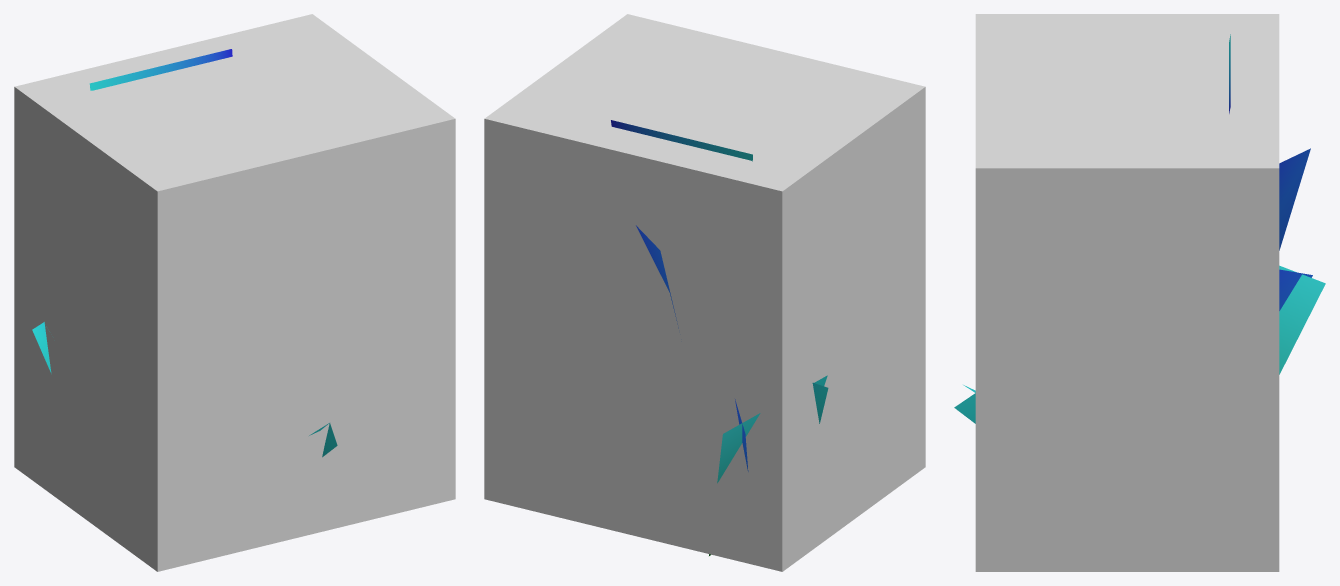
Rendered from lush_grass_01_c.dae.
3 views of the same model, side by side, from view 1: azimuth 30°, elevation 25°; view 2: azimuth 150°, elevation 25°; view 3: azimuth 270°, elevation 25° (orthographic). The views are drawn at different scales.
Parts seen in each view (by area): view 1: Untitled, tree_oak_bush_a80; view 2: Untitled, tree_oak_bush_a80; view 3: Untitled, tree_oak_bush_a80.
Part boxes in pixels (<box>): Untitled: <box>14,14,455,571</box>; tree_oak_bush_a80: <box>32,49,337,457</box>; Untitled: <box>484,14,925,571</box>; tree_oak_bush_a80: <box>611,120,828,555</box>; Untitled: <box>975,14,1279,571</box>; tree_oak_bush_a80: <box>954,34,1325,423</box>.
Bounding box in the file's own units: 1.29 × 1.26 × 1.73.
